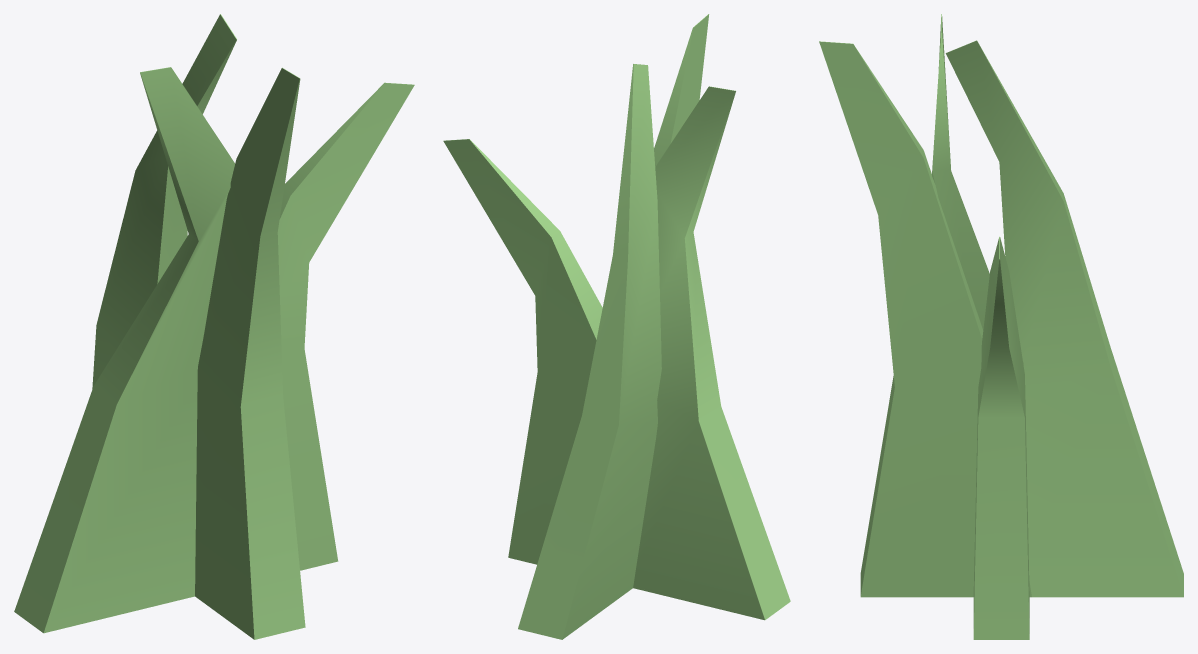
The model's file is grass6.fbx.
3 views of the same model, side by side, from view 1: azimuth 30°, elevation 25°; view 2: azimuth 150°, elevation 25°; view 3: azimuth 270°, elevation 25° (orthographic). The views are drawn at different scales.
Parts seen in each view (by area): view 1: pCube73; view 2: pCube73; view 3: pCube73.
Boxes of the visible parts, x1,y1,x2,y2 form: pCube73: (14,14,414,639); pCube73: (443,14,790,639); pCube73: (819,14,1183,639).
Bounding box in the file's own units: 1.84 × 2.63 × 1.59.
